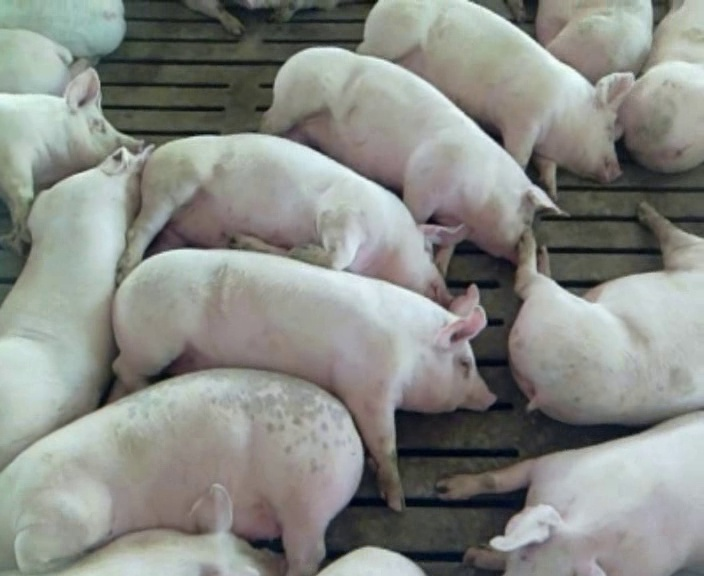pig: (113, 249, 495, 510), (0, 369, 363, 573), (119, 134, 467, 305), (357, 2, 633, 199), (0, 146, 152, 468), (509, 202, 703, 423), (440, 411, 703, 574), (0, 68, 142, 252), (52, 484, 285, 574), (620, 0, 703, 172), (536, 1, 652, 81), (317, 546, 424, 575)
